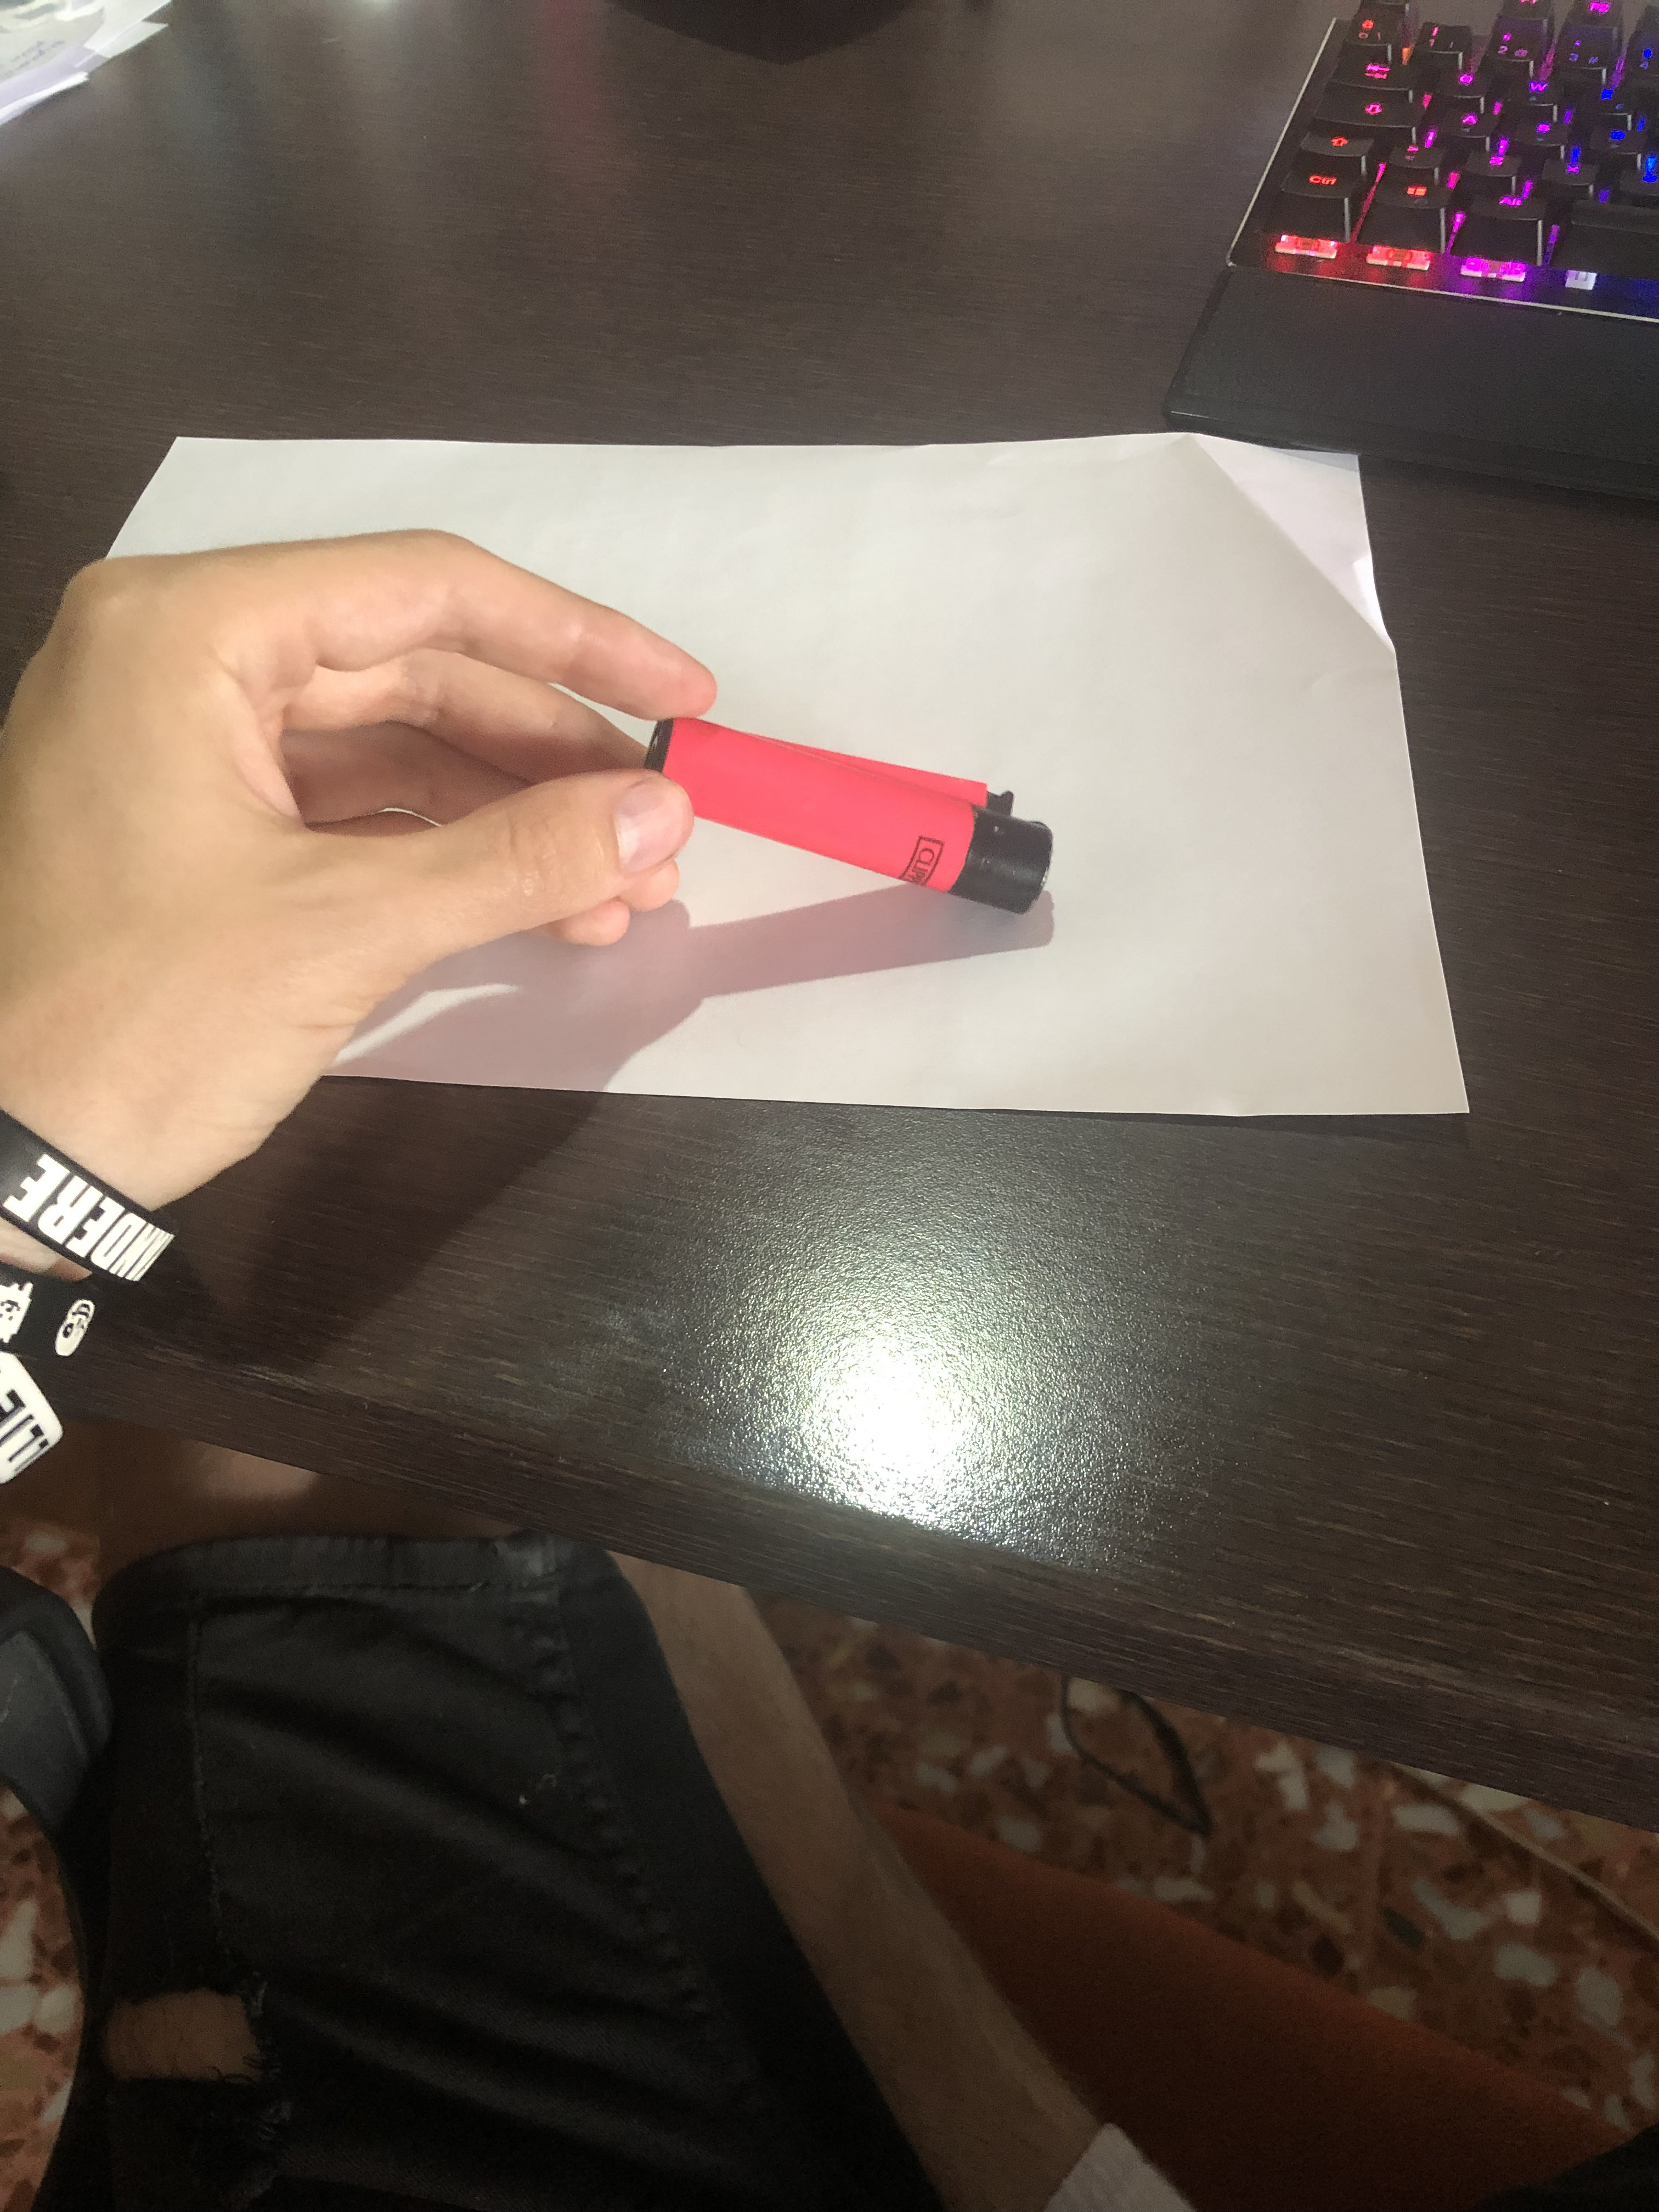Mechero: (626, 690, 1070, 981)
